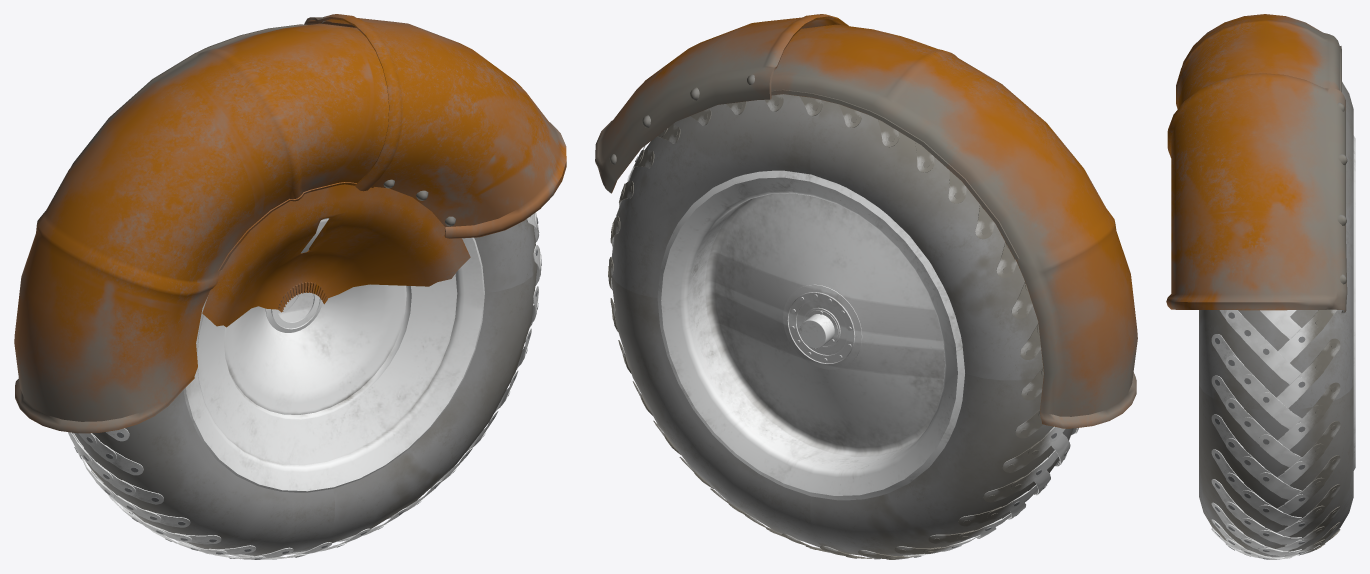
Rendered from tyre.gltf.
3 views of the same model, side by side, from view 1: azimuth 30°, elevation 25°; view 2: azimuth 150°, elevation 25°; view 3: azimuth 270°, elevation 25° (orthographic). The views are drawn at different scales.
Visible parts, largest first — view 1: ApolloRoverRig__1.001_2; view 2: ApolloRoverRig__1.001_2; view 3: ApolloRoverRig__1.001_2.
Boxes of the visible parts, x1=… form: ApolloRoverRig__1.001_2: x1=14, y1=14, x2=566, y2=559; ApolloRoverRig__1.001_2: x1=595, y1=14, x2=1137, y2=559; ApolloRoverRig__1.001_2: x1=1166, y1=14, x2=1355, y2=559.
Size of the model in its own units: 0.7987 by 0.7517 by 0.2641.
1 material, 1 textured.
